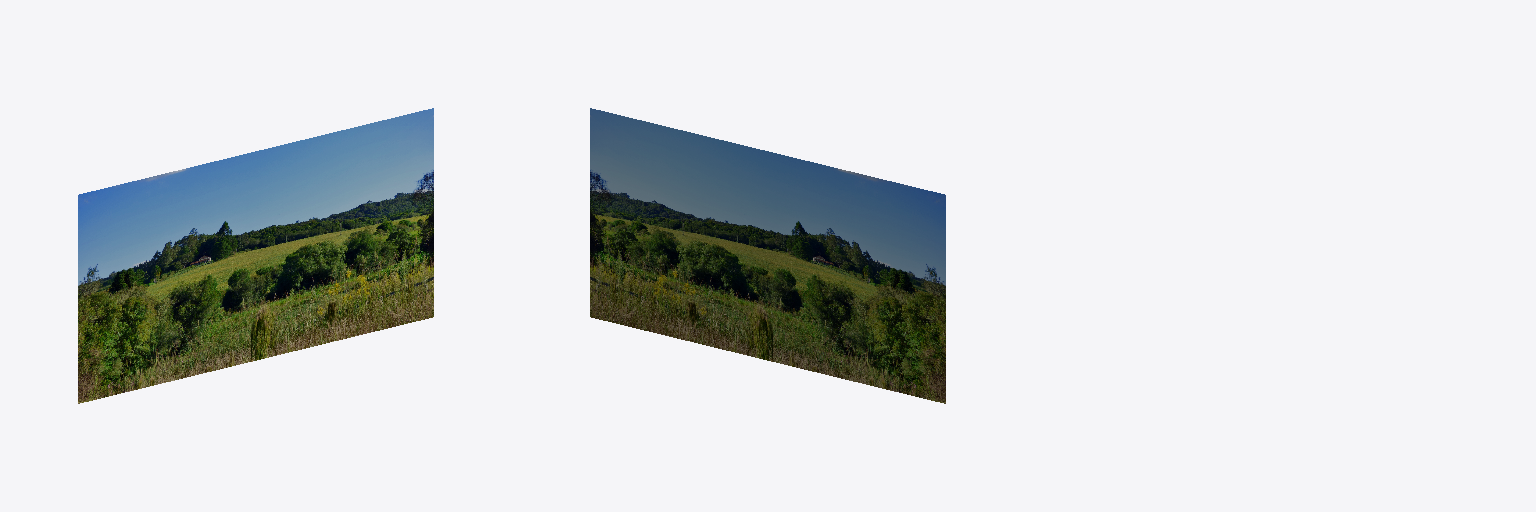
3 renders of one model, left to right at view 1: azimuth 30°, elevation 25°; view 2: azimuth 150°, elevation 25°; view 3: azimuth 270°, elevation 25°, orthographic.
Visible parts, largest first — view 1: Paisagem_01(campestre); view 2: Paisagem_01(campestre); view 3: none.
Boxes of the visible parts, x1,y1,x2,y2 form: Paisagem_01(campestre): [78, 108, 433, 403]; Paisagem_01(campestre): [590, 108, 945, 403].
Size of the model in its own units: 1.78 by 1 by 0.
1 materials, 1 textured.